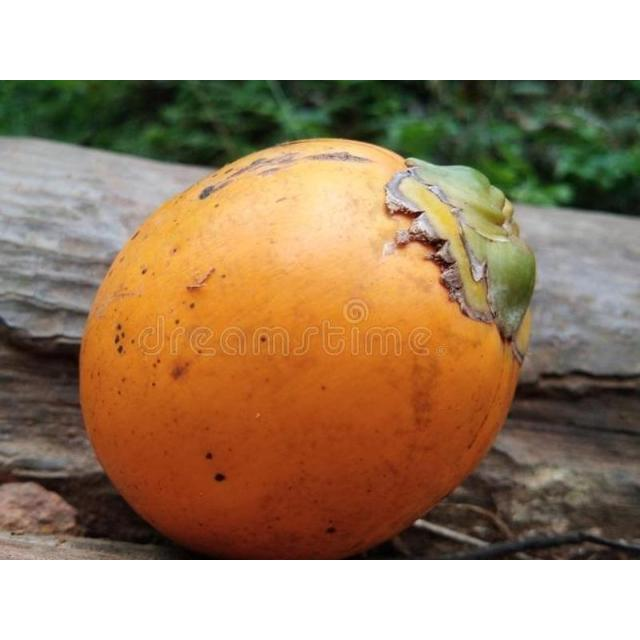good: (78, 139, 538, 559)
